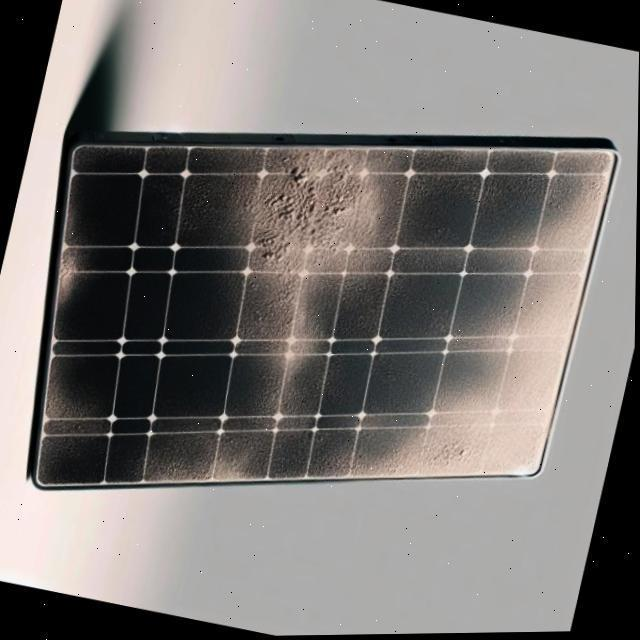Anomaly Solar Panel: (35, 148, 613, 491)
Surface Contaminant: (306, 110, 614, 520), (131, 146, 476, 488), (16, 164, 116, 484)
